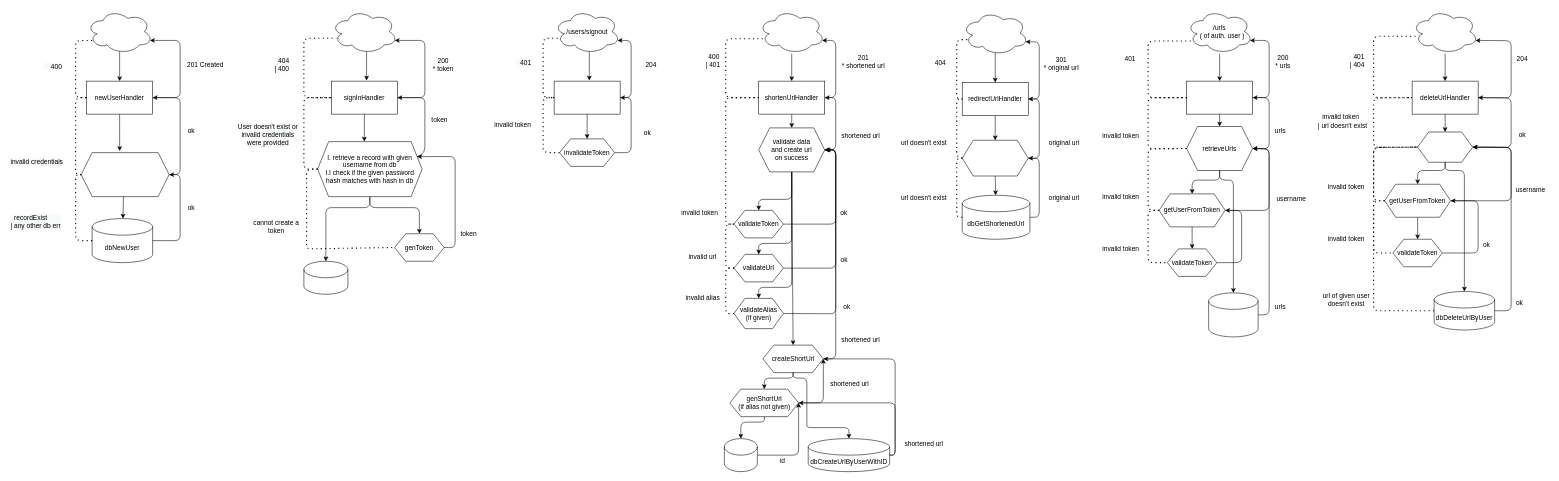
The diagram is 1559 pixels wide and 481 high, and some of its shapes have lost their labels. Here are the shapes that lost their labels. From the top down, the centre of each, then its label:
At (119,31): "/users/signup".
At (364,31): "/users/signin".
At (791,31): "/urls/shorten { alias } ( for auth. user )".
At (995,32): "/r/{alias}".
At (1445,31): "/urls/{alias} ( of auth. user )".
At (587,97): "signOutHandler".
At (1219,97): "listUrlsHandler".
At (995,158): "retrieveUrl".
At (1445,146): "deleteUrl".
At (125,174): "I. username is valid II. password is provided".
At (325,277): "dbGetUser".
At (1233,314): "getUrlsByUser".
At (740,455): "dbGetId".
